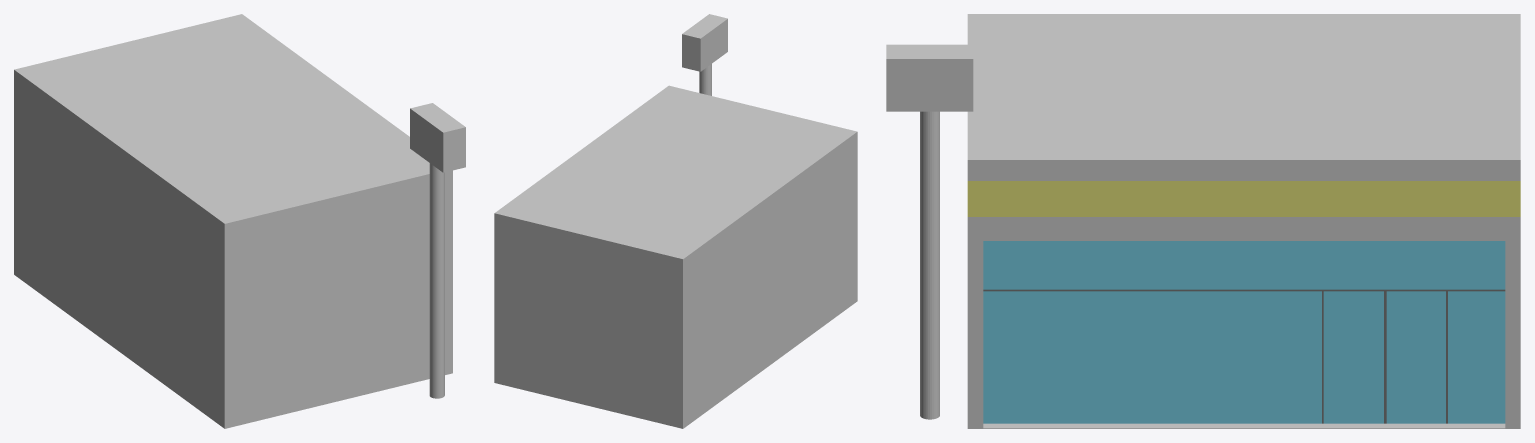
Rendered from comvenience store_model.fbx.
3 views of the same model, side by side, from view 1: azimuth 30°, elevation 25°; view 2: azimuth 150°, elevation 25°; view 3: azimuth 270°, elevation 25° (orthographic). The views are drawn at different scales.
Visible parts, largest first — view 1: 立方体; view 2: 立方体; view 3: 立方体.
Part boxes in pixels (left/top/right/bottom): 立方体: left=14, top=14, right=465, bottom=428; 立方体: left=494, top=14, right=857, bottom=428; 立方体: left=886, top=14, right=1520, bottom=428.
Bounding box in the file's own units: 383 × 446 × 704.
